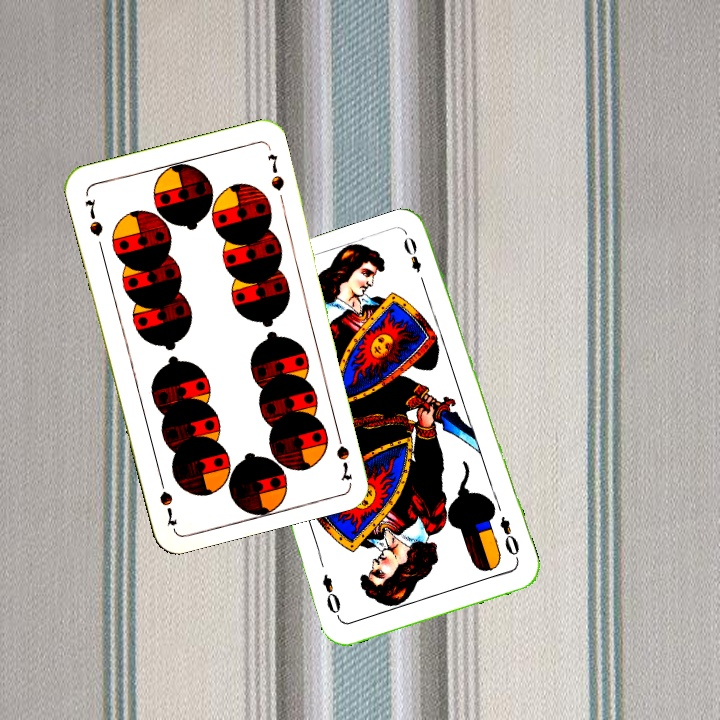EO: (495, 512, 522, 564)
S7: (331, 424, 355, 483), (81, 194, 106, 239)
